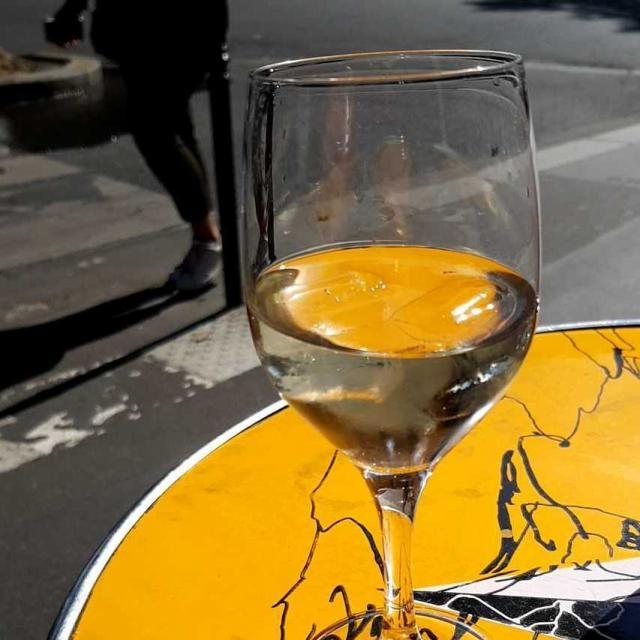wine: (263, 238, 534, 480)
